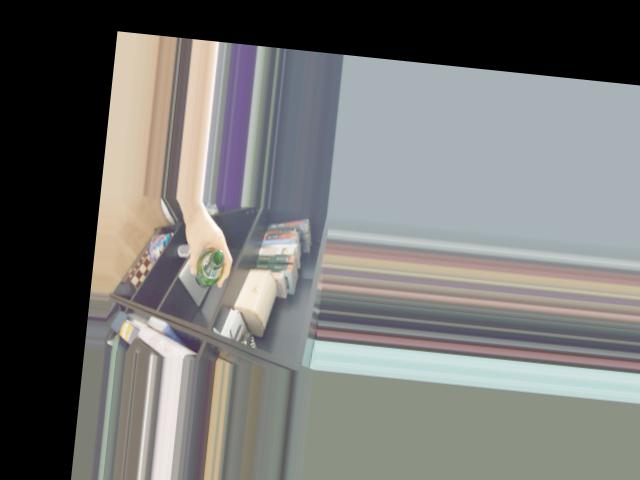beer: (192, 246, 224, 289)
